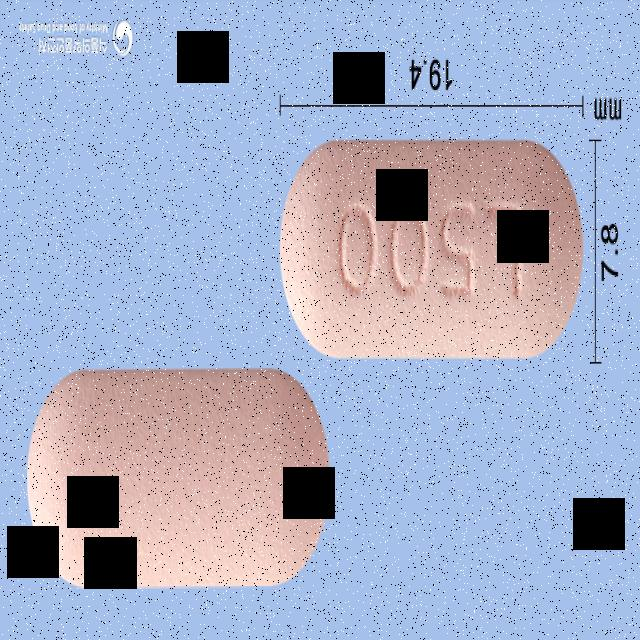Levoby: (26, 367, 331, 592), (278, 140, 584, 362)
